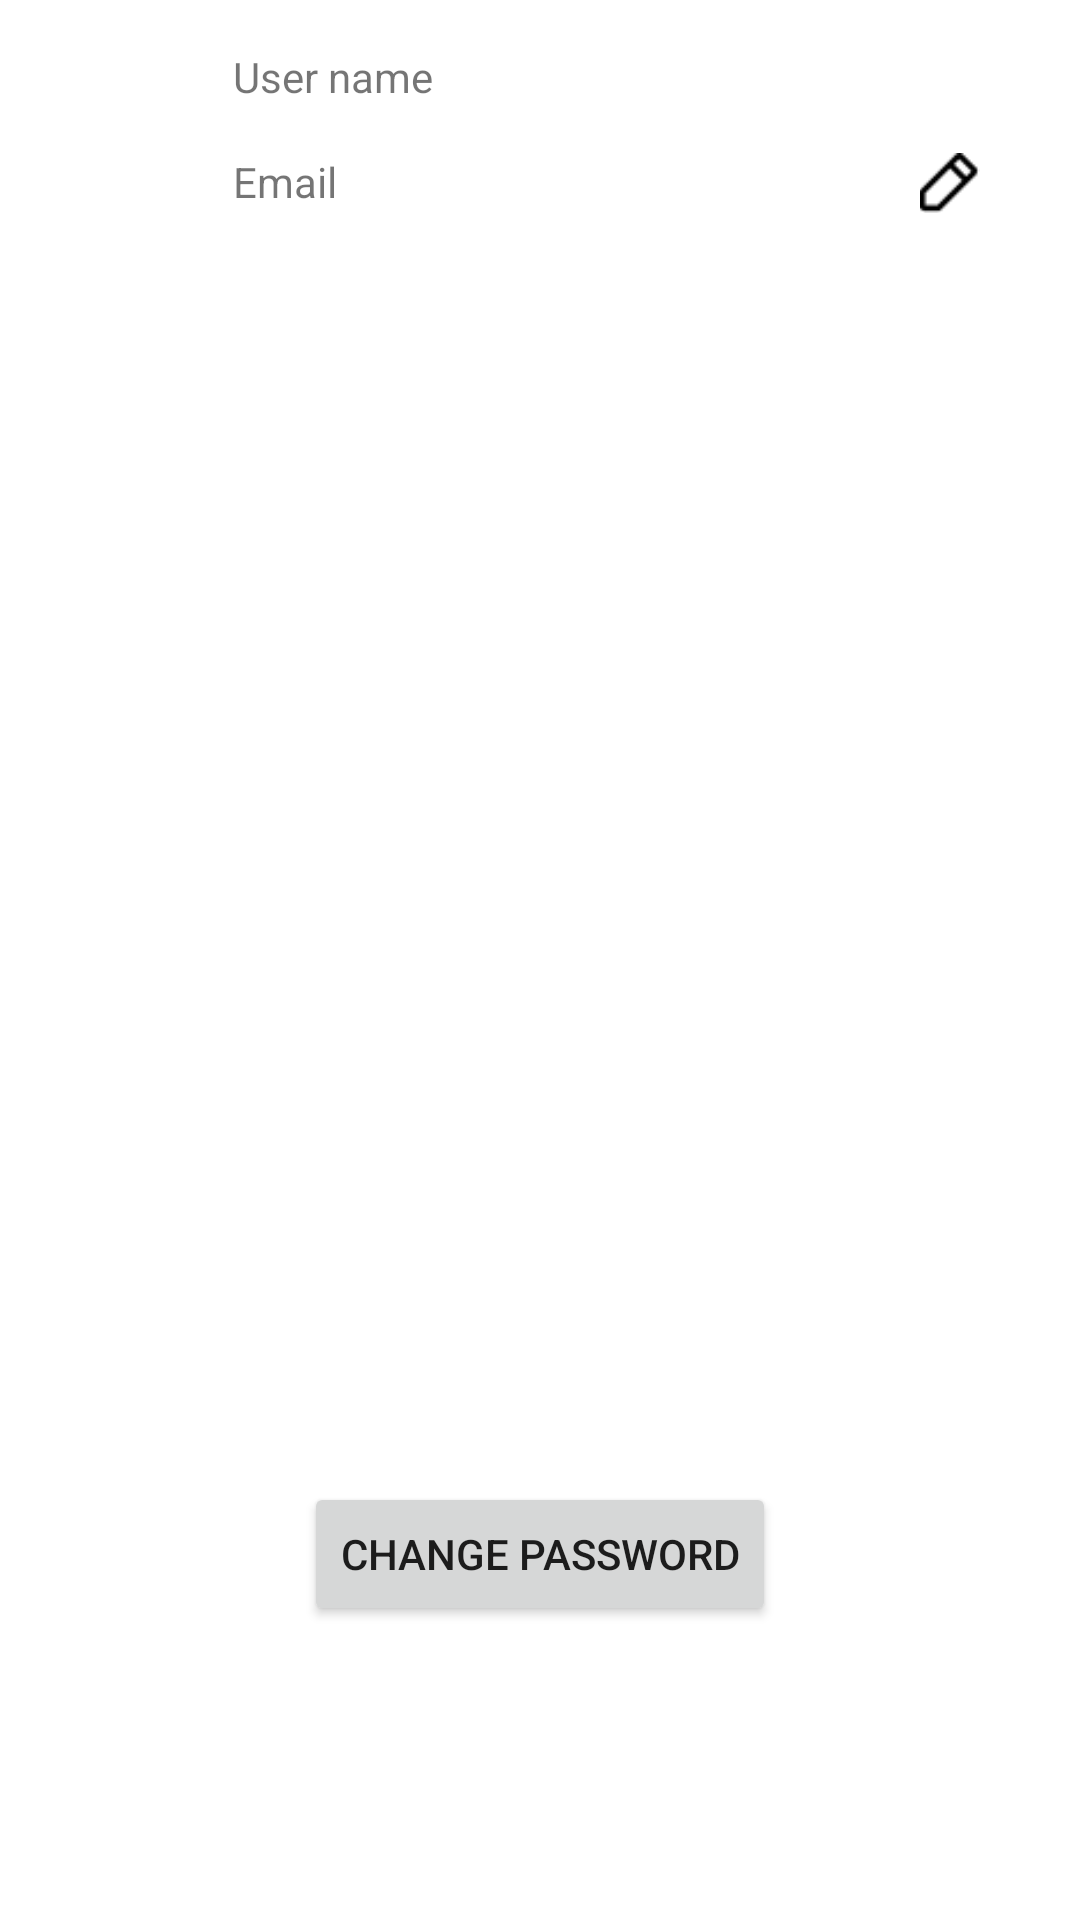

Where to tap for icons on this 1080 x 1920 app screen, as (x=x, y=y):
edit: (x=949, y=183)
